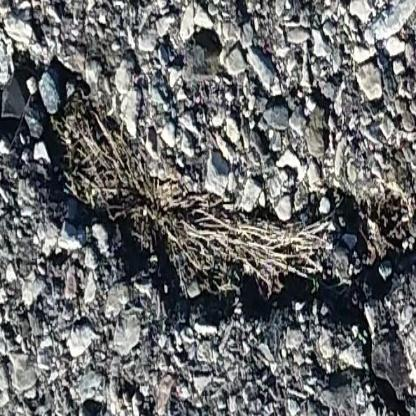Cracks: (0, 46, 416, 416), (412, 102, 416, 131)
